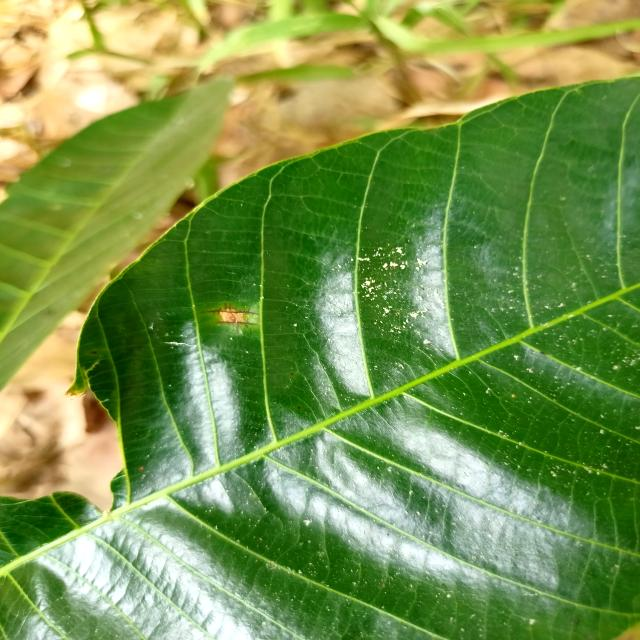Corynespora: (202, 304, 260, 317), (215, 318, 258, 328)
Leaf-Blight: (219, 309, 243, 322)
